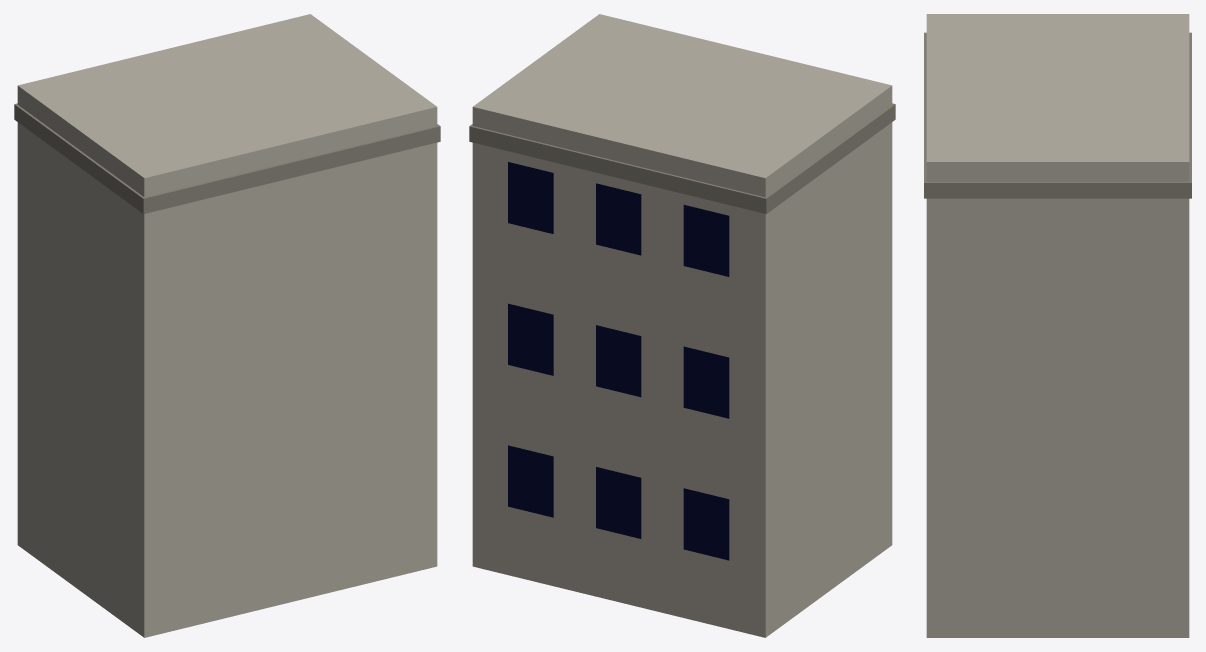
The model's file is env_building_block_a.obj.
3 renders of one model, left to right at view 1: azimuth 30°, elevation 25°; view 2: azimuth 150°, elevation 25°; view 3: azimuth 270°, elevation 25°, orthographic. The views are drawn at different scales.
Parts seen in each view (by area): view 1: BuildingBlock; view 2: BuildingBlock; view 3: BuildingBlock.
Boxes of the visible parts, x1,y1,x2,y2 form: BuildingBlock: (14,14,440,637); BuildingBlock: (469,14,895,637); BuildingBlock: (924,14,1191,637).
Bounding box in the file's own units: 4.06 × 6 × 3.06.
